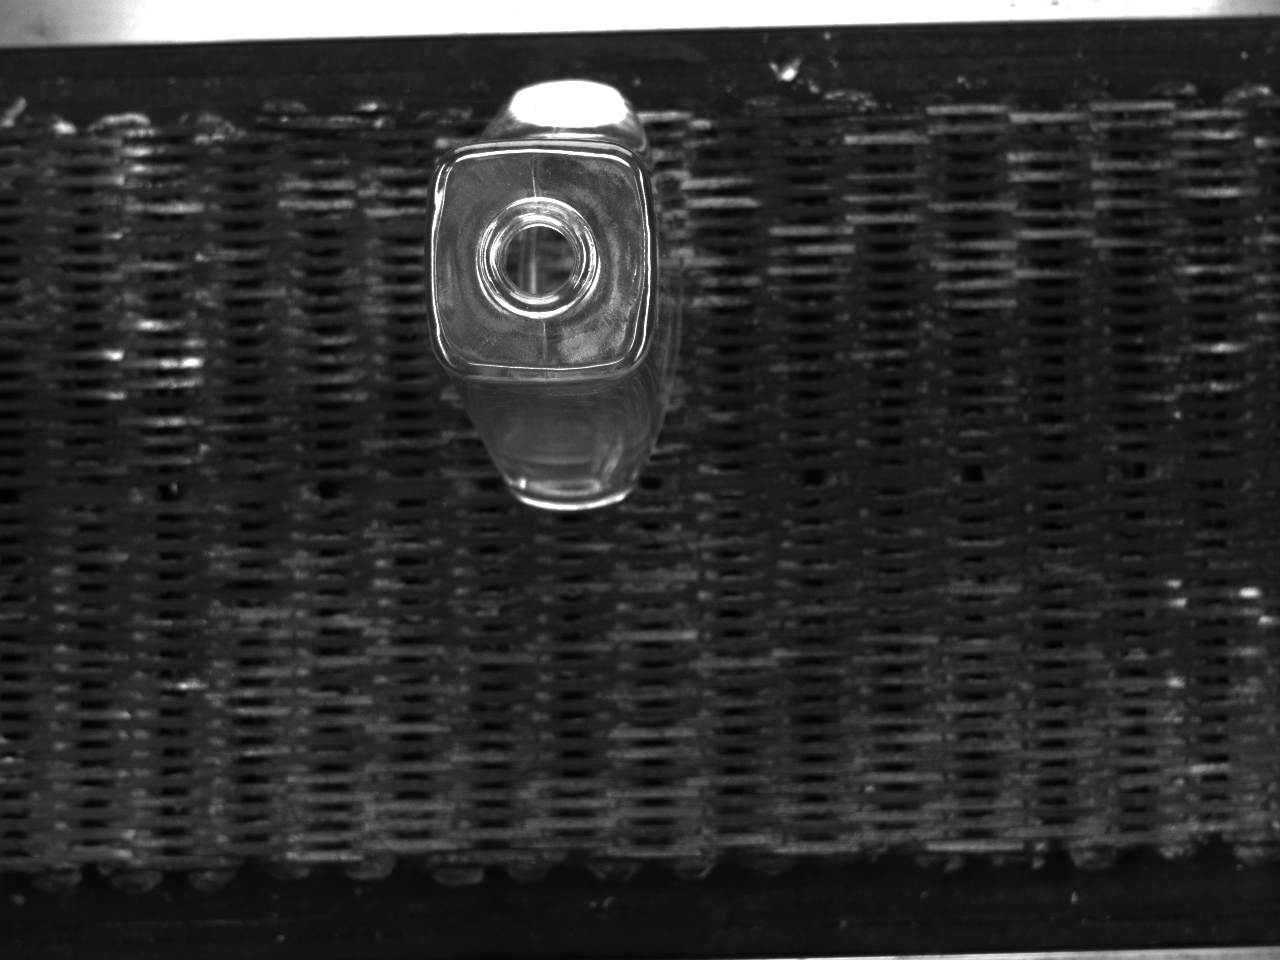bottleneck: (476, 196, 601, 319)
